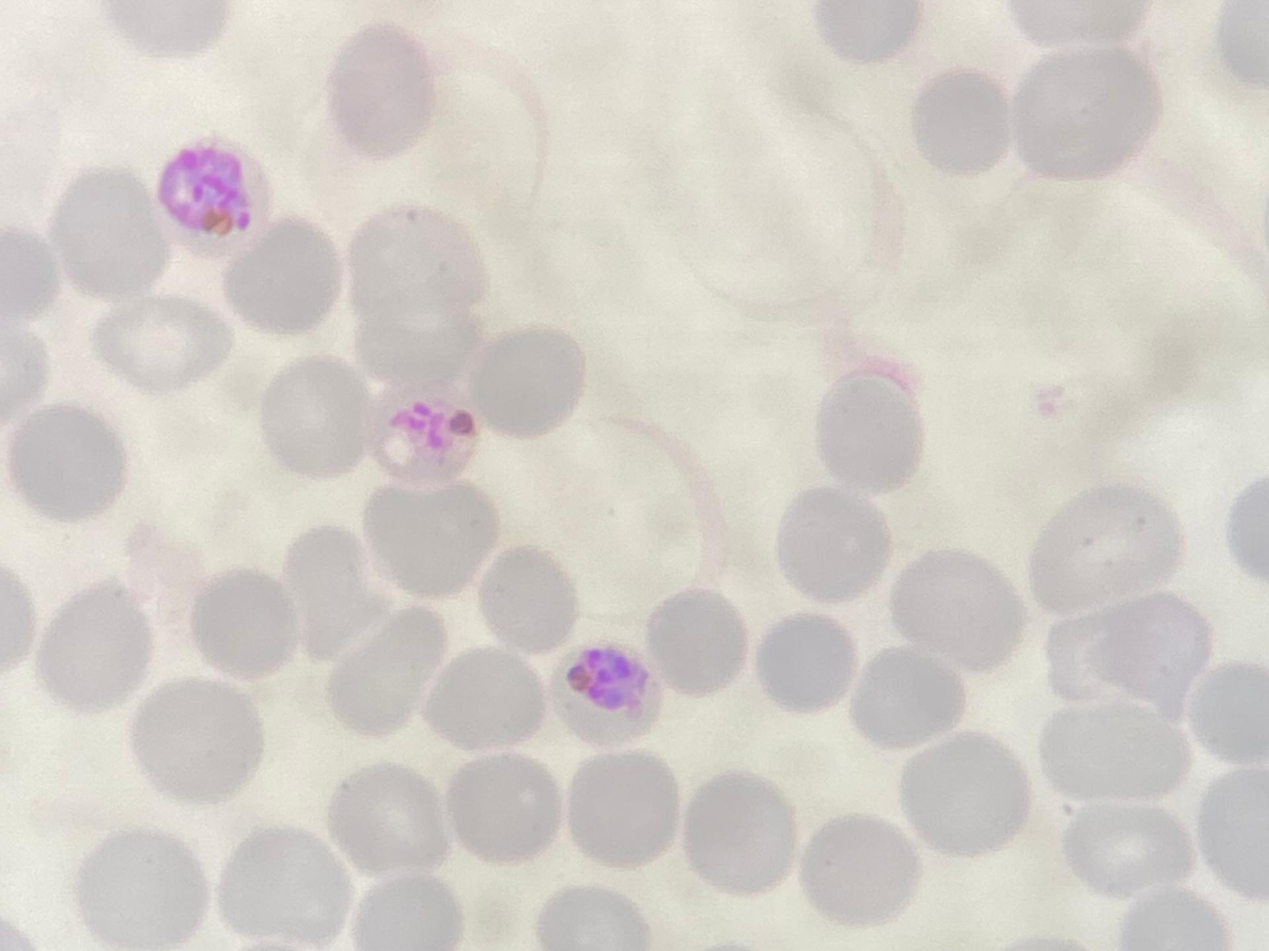Infected: (157, 136, 274, 250), (560, 646, 663, 744), (375, 385, 482, 479)
Uninfected: (1028, 481, 1186, 617), (1016, 45, 1161, 181), (218, 823, 359, 947), (344, 202, 488, 320), (78, 825, 212, 951), (135, 676, 266, 803), (894, 544, 1024, 670), (904, 732, 1036, 854), (48, 166, 166, 299), (38, 579, 154, 713), (1094, 593, 1214, 722), (91, 288, 236, 394), (367, 488, 504, 600), (327, 20, 437, 159), (330, 608, 449, 735), (1039, 703, 1193, 799), (686, 769, 799, 896), (777, 485, 895, 603), (223, 220, 344, 335), (263, 354, 376, 476), (329, 764, 448, 878), (818, 369, 927, 493), (448, 750, 564, 865), (1059, 800, 1195, 898), (805, 815, 925, 926), (12, 402, 125, 518), (428, 648, 549, 752), (474, 327, 585, 440), (570, 750, 680, 863), (853, 646, 967, 752), (195, 565, 298, 677), (288, 524, 380, 649), (644, 587, 746, 698), (912, 66, 1010, 176), (758, 611, 860, 711), (482, 547, 578, 651), (352, 878, 463, 951), (1191, 660, 1269, 762)
